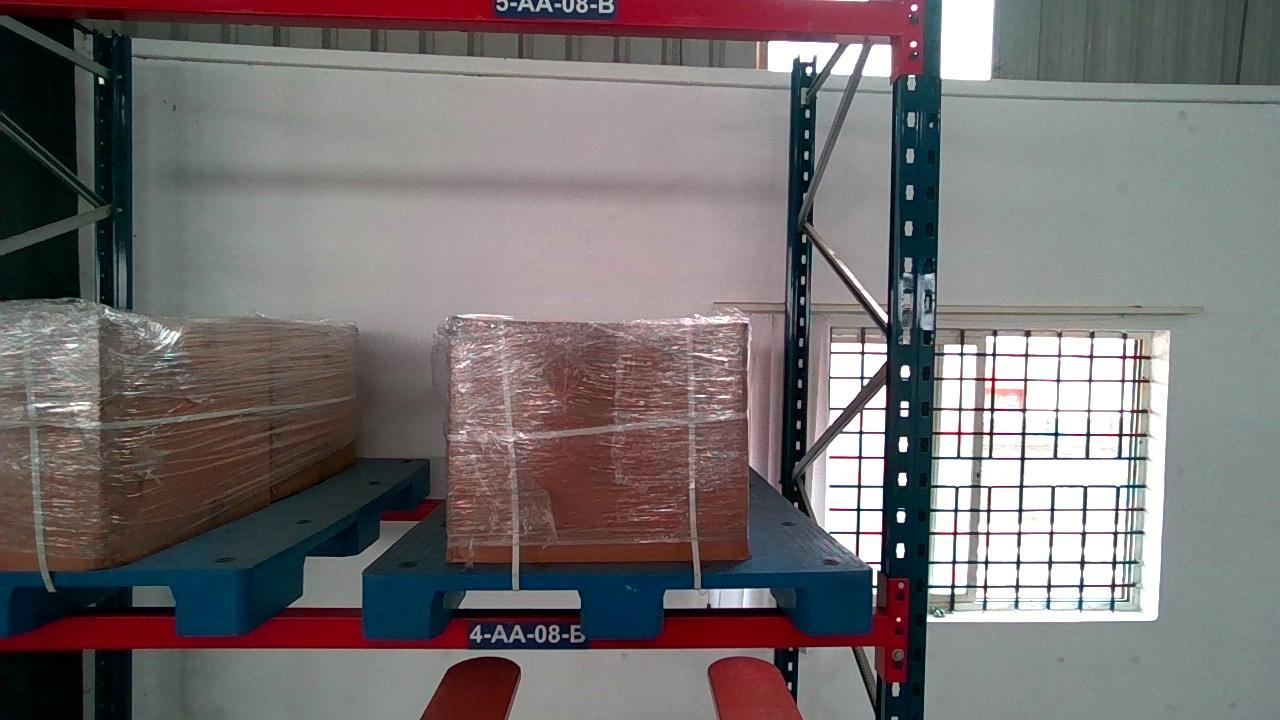h_rack: (1, 616, 898, 646)
small_pallet: (364, 567, 868, 636)
